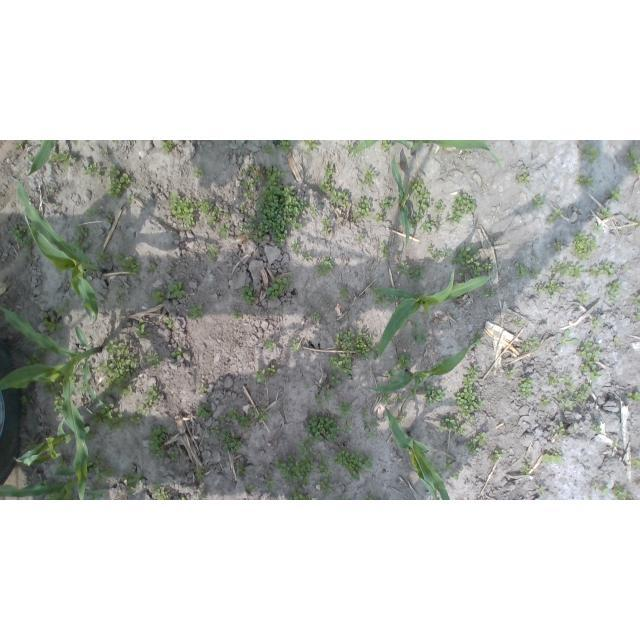Maize: (1, 304, 104, 500), (15, 179, 109, 327), (374, 261, 502, 355), (359, 342, 477, 400), (384, 407, 451, 500), (353, 140, 505, 172), (15, 417, 88, 466), (1, 465, 92, 500), (392, 155, 416, 247), (24, 140, 79, 180)
Weeds: (255, 166, 308, 247), (99, 341, 139, 398), (275, 440, 314, 487), (333, 447, 373, 482), (334, 329, 377, 360), (408, 176, 433, 228), (305, 412, 343, 445), (577, 340, 604, 381), (91, 402, 129, 430), (453, 389, 484, 423), (105, 164, 135, 199), (453, 246, 484, 279), (169, 191, 196, 228), (86, 453, 118, 484), (7, 224, 33, 257), (220, 408, 253, 432), (570, 231, 596, 261), (452, 191, 476, 223), (148, 425, 169, 460), (266, 277, 295, 300), (219, 429, 245, 454), (396, 260, 424, 283), (463, 431, 487, 456), (115, 253, 141, 276), (73, 220, 92, 251), (551, 260, 581, 279), (422, 384, 447, 406), (536, 280, 564, 299), (49, 151, 76, 170), (331, 353, 353, 376), (320, 165, 337, 194), (557, 330, 580, 351), (314, 451, 332, 477), (41, 314, 64, 334), (123, 471, 142, 495), (625, 147, 640, 177), (412, 320, 429, 345), (168, 279, 188, 300), (580, 145, 600, 166), (43, 376, 63, 396), (329, 189, 350, 208), (317, 256, 336, 277), (353, 197, 371, 219), (588, 263, 614, 278), (427, 245, 451, 261), (575, 384, 594, 403), (360, 166, 376, 188), (555, 391, 573, 410), (612, 484, 633, 500), (288, 488, 313, 501), (196, 197, 214, 215), (559, 375, 576, 394), (150, 484, 169, 501), (254, 406, 273, 423), (144, 384, 161, 403), (240, 284, 256, 304), (463, 368, 479, 388), (518, 378, 533, 399), (135, 319, 150, 340), (144, 351, 161, 369), (55, 459, 70, 479), (187, 304, 204, 321), (438, 417, 456, 433), (317, 479, 335, 495), (338, 402, 354, 420), (27, 354, 48, 367), (521, 337, 539, 352), (606, 282, 620, 301), (318, 385, 334, 401), (553, 421, 569, 437), (514, 168, 530, 184), (84, 163, 101, 178), (547, 209, 564, 224), (396, 354, 411, 371), (575, 288, 589, 306), (576, 175, 595, 188), (197, 404, 212, 419), (276, 140, 292, 154), (34, 341, 50, 355), (592, 483, 609, 496), (171, 348, 188, 361), (541, 454, 561, 465), (379, 241, 391, 259), (515, 262, 530, 276), (96, 250, 110, 265), (321, 217, 332, 236), (208, 243, 221, 259), (151, 291, 167, 304), (56, 304, 73, 316), (53, 396, 65, 413), (213, 207, 231, 218), (488, 449, 501, 464), (372, 288, 384, 304), (169, 449, 185, 461), (521, 460, 532, 477), (380, 198, 394, 211), (137, 402, 150, 416), (532, 194, 544, 209), (162, 141, 175, 154), (255, 370, 268, 383), (610, 187, 622, 201), (262, 338, 276, 350), (305, 140, 319, 152), (597, 207, 611, 219), (386, 368, 400, 380), (315, 393, 325, 409), (364, 428, 376, 441), (419, 219, 430, 233), (548, 371, 559, 385), (220, 222, 231, 236), (266, 476, 275, 493), (385, 296, 403, 304), (481, 289, 497, 298), (192, 166, 204, 178), (164, 316, 175, 329), (263, 145, 276, 156), (242, 164, 255, 175), (239, 222, 256, 230), (288, 340, 300, 351), (22, 393, 34, 404), (330, 375, 342, 386), (79, 381, 90, 393), (267, 364, 278, 376), (627, 391, 640, 401), (627, 211, 640, 221), (471, 332, 481, 345), (435, 199, 444, 213), (84, 268, 93, 282), (443, 459, 454, 470), (85, 208, 95, 220), (591, 316, 601, 328), (241, 178, 253, 188), (383, 140, 393, 152), (26, 440, 38, 450), (131, 414, 141, 426), (196, 468, 205, 481), (530, 266, 538, 280), (456, 425, 466, 436), (237, 465, 248, 475), (292, 240, 301, 252), (347, 144, 356, 156), (360, 408, 369, 420), (339, 288, 347, 301), (374, 211, 384, 221), (592, 424, 602, 434), (303, 251, 313, 261), (370, 418, 380, 428), (382, 393, 391, 404), (540, 399, 551, 408), (396, 416, 405, 427), (208, 217, 217, 228), (85, 433, 96, 442), (362, 493, 376, 500), (433, 218, 441, 230), (232, 310, 244, 318), (311, 204, 319, 216), (207, 429, 220, 436), (116, 292, 126, 301), (631, 458, 640, 468), (505, 369, 515, 378), (246, 211, 256, 220), (15, 140, 26, 148), (127, 195, 136, 204), (199, 384, 208, 393), (245, 484, 254, 493), (552, 243, 561, 252), (395, 394, 404, 403), (343, 424, 353, 432), (245, 233, 255, 240), (415, 291, 426, 297), (634, 311, 640, 322), (632, 295, 640, 303), (594, 225, 603, 232), (613, 338, 620, 347), (242, 191, 252, 197), (101, 148, 108, 156), (149, 263, 157, 270), (453, 472, 460, 480), (304, 382, 312, 389), (107, 215, 113, 224), (312, 311, 321, 317), (29, 155, 36, 162), (612, 440, 619, 447), (463, 148, 470, 155), (199, 493, 206, 500), (239, 205, 246, 212), (623, 264, 630, 271), (539, 489, 546, 495), (335, 497, 349, 500), (71, 375, 77, 382), (49, 188, 54, 196), (620, 228, 624, 237), (90, 487, 99, 491), (51, 204, 57, 209), (358, 237, 363, 243), (178, 496, 185, 500), (516, 320, 521, 325), (168, 266, 172, 270)
